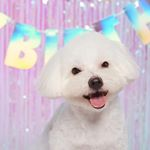puppy: (29, 26, 141, 150)
